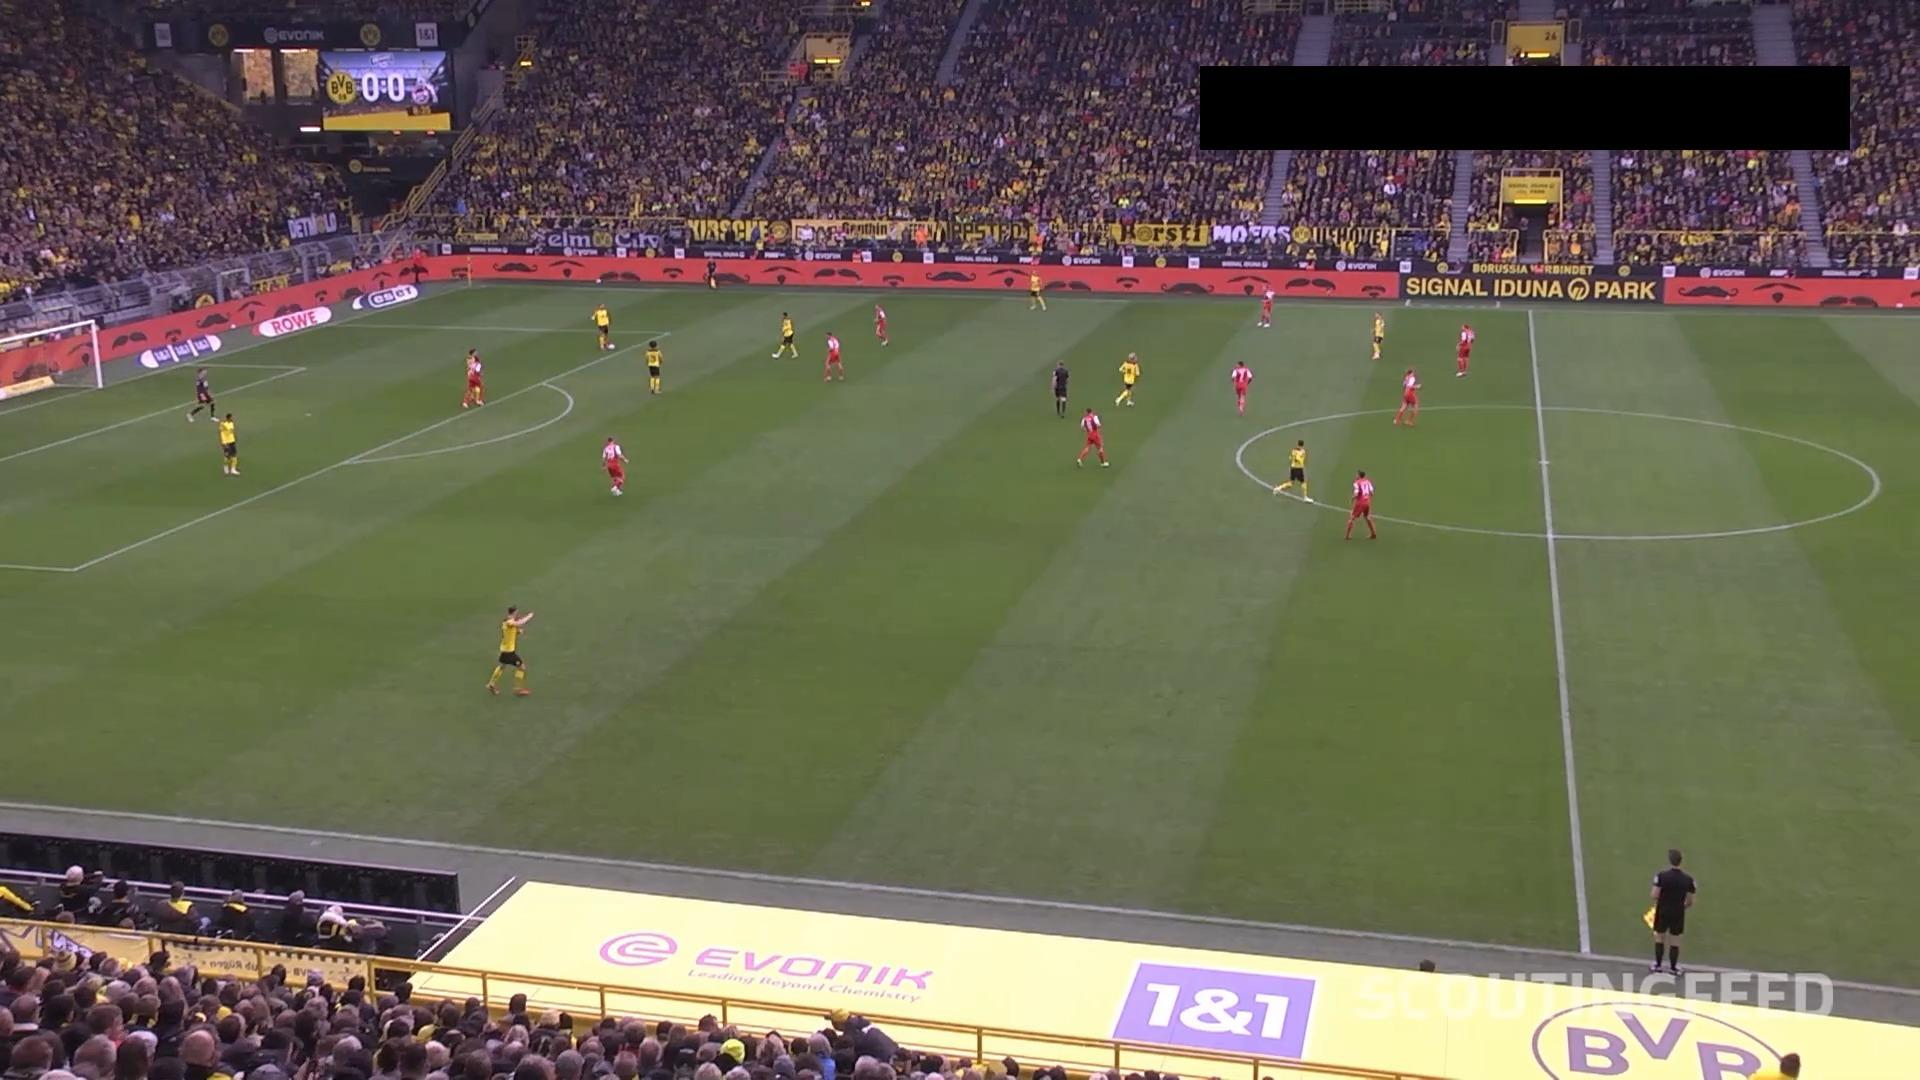player: (484, 604, 534, 696), (1271, 438, 1312, 503), (1343, 469, 1376, 539), (1074, 406, 1109, 468), (185, 366, 218, 423), (600, 436, 628, 496), (1393, 366, 1421, 426), (216, 412, 240, 475), (1113, 351, 1140, 406), (460, 347, 484, 408), (770, 310, 798, 359), (1229, 359, 1252, 415), (822, 330, 845, 381), (1454, 321, 1475, 376), (643, 339, 663, 394), (591, 303, 614, 350), (1027, 271, 1047, 311), (1369, 310, 1385, 359), (1256, 284, 1274, 327), (872, 302, 889, 345), (465, 348, 478, 358)
referee: (1646, 847, 1696, 976), (1051, 359, 1069, 417), (704, 258, 718, 289)
